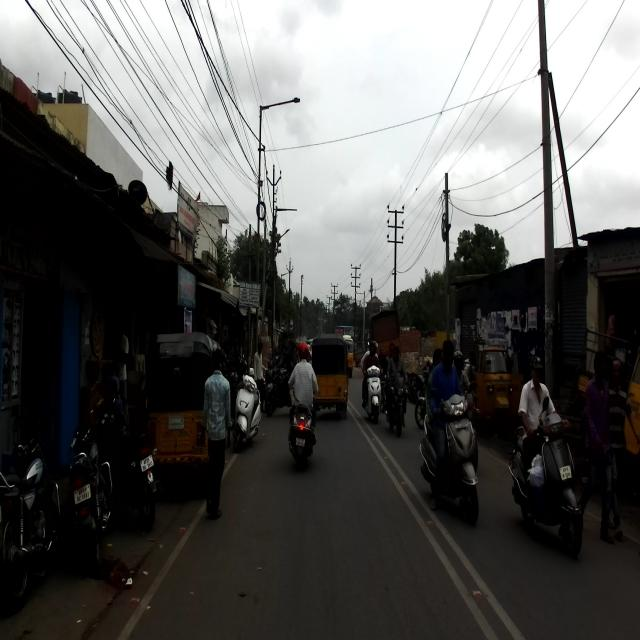autorickshaw: (144, 330, 227, 500), (568, 324, 640, 493), (456, 344, 522, 447)
motorcycle: (1, 422, 62, 612), (89, 392, 160, 534), (67, 408, 113, 570), (384, 375, 408, 437)
scooter: (508, 397, 583, 559), (418, 390, 480, 529), (286, 378, 321, 470), (231, 367, 261, 453), (362, 364, 382, 424)
